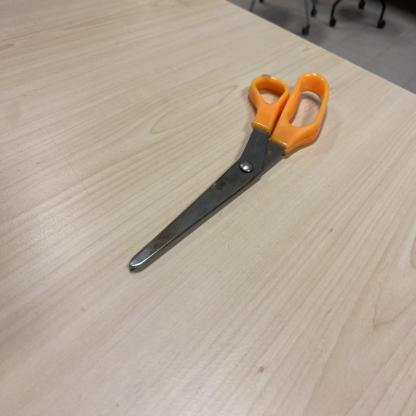scissors: (128, 71, 331, 272)
